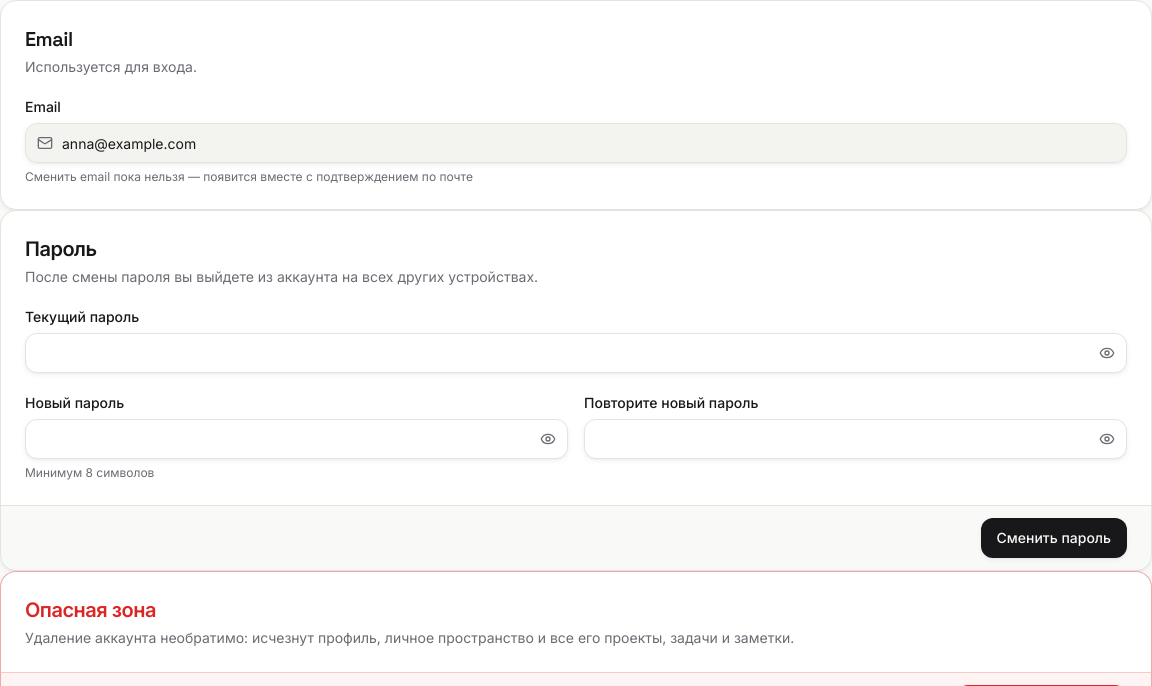
Настройки → Аккаунт › смена пароля › пароли не совпадают — ошибка до отправки
The image size is (1152, 686).
Type "old-password" into the password field labelled "Текущий пароль" at point(576, 353), box [25,333,1127,373]
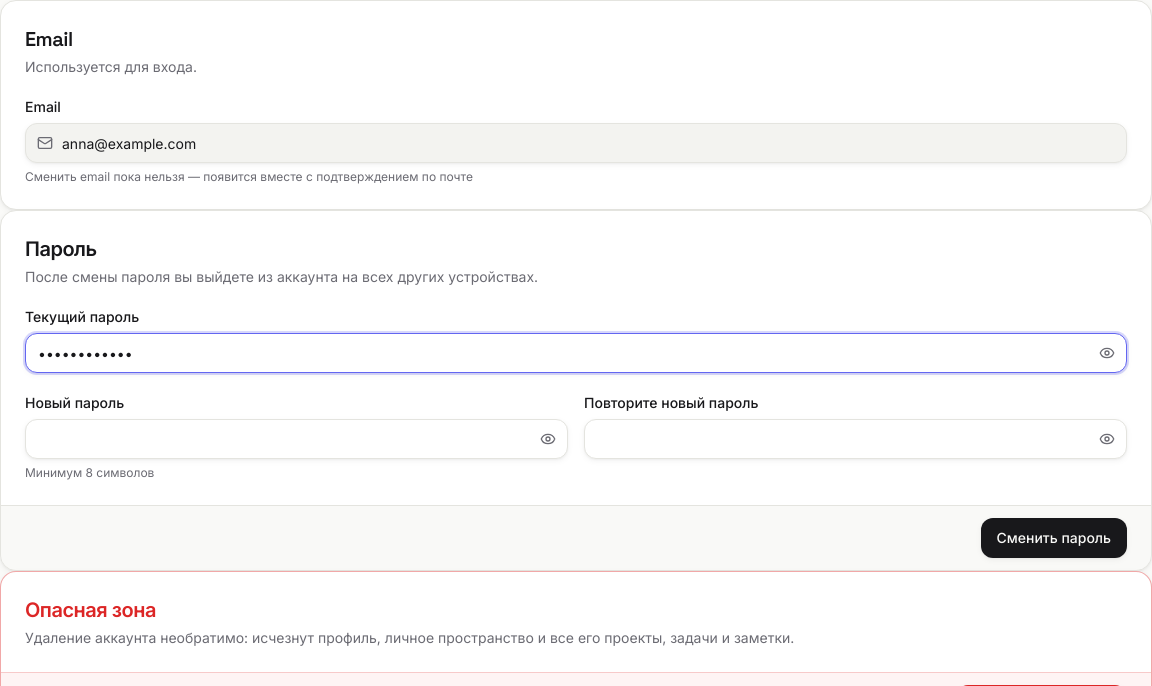
Type "new-password-1" into the password field labelled "Новый пароль" at point(296, 439), box [25,419,568,459]
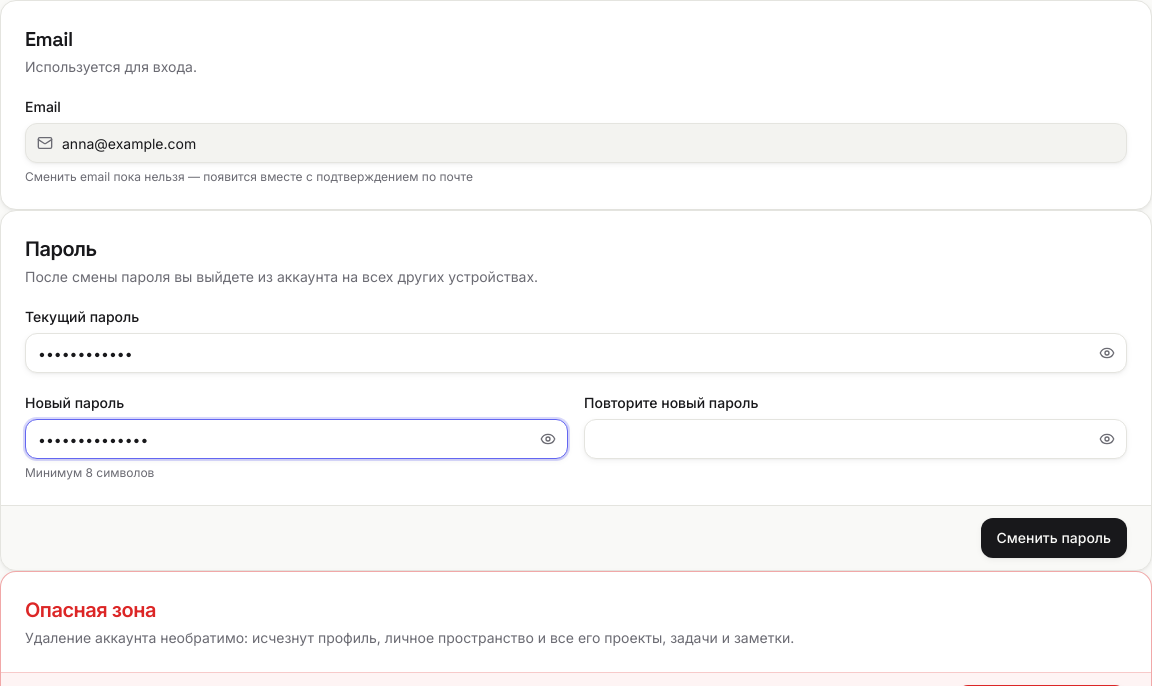
Type "new-password-2" into the password field labelled "Повторите новый пароль" at point(856, 439), box [584,419,1127,459]
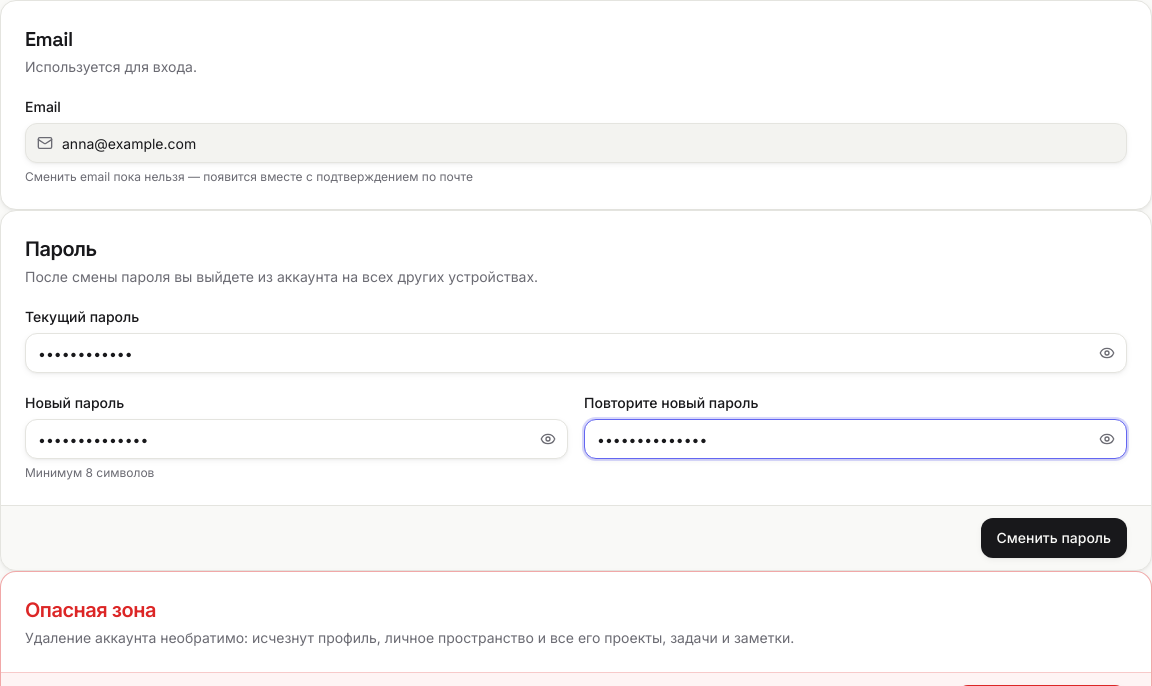
Click the button "Сменить пароль" at point(1054, 538), box [980,518,1127,558]
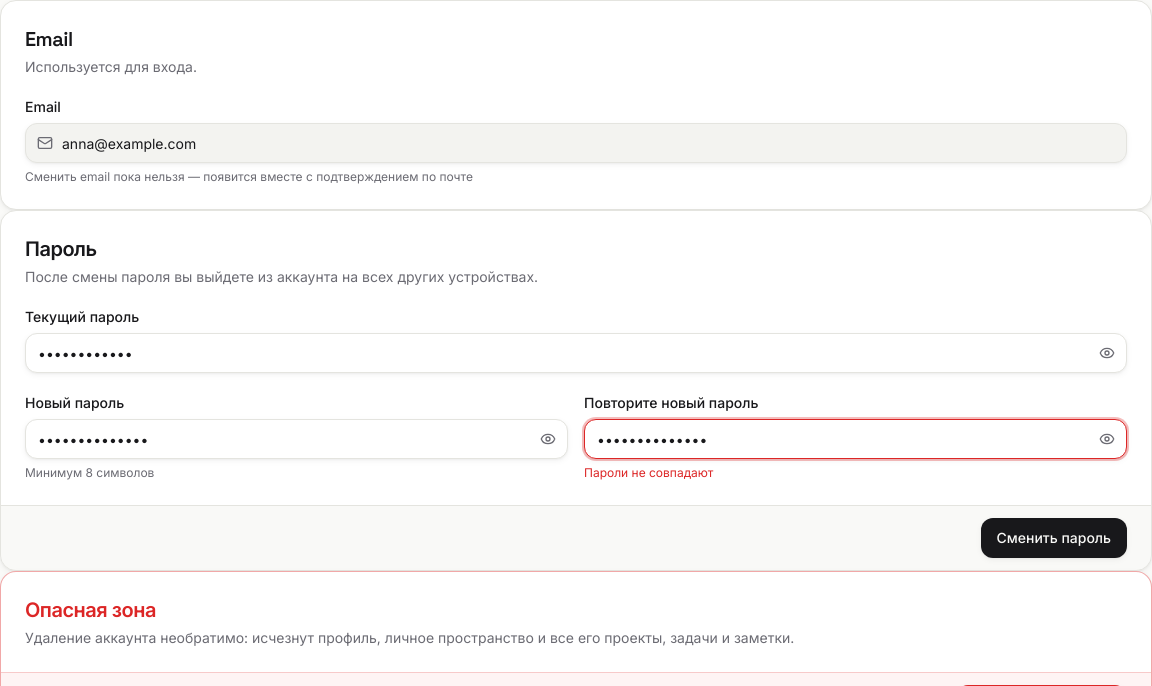
Check: the text "Пароли не совпадают" is shown, box [584,465,713,480]
